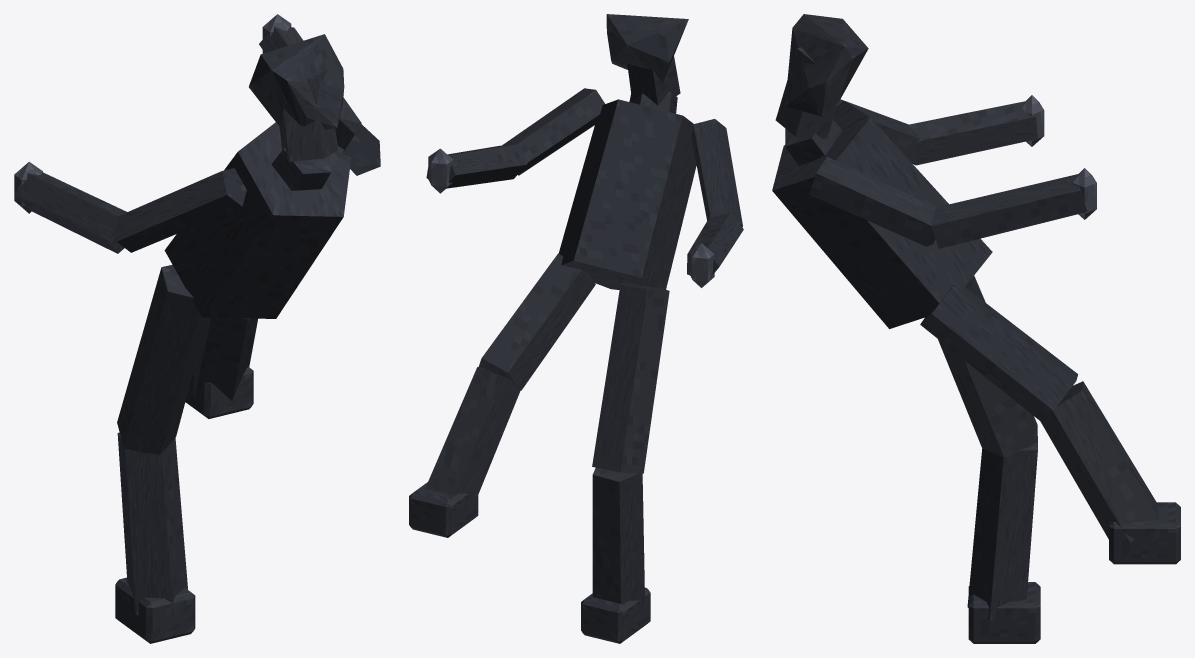
Rendered from f_glassedbody_1.glb.
3 renders of one model, left to right at view 1: azimuth 30°, elevation 25°; view 2: azimuth 150°, elevation 25°; view 3: azimuth 270°, elevation 25°, orthographic. The views are drawn at different scales.
Parts seen in each view (by area): view 1: block_angular-torso-1, block_faceted-glass-leg-1 (×2), block_faceted-glass-leg-2, block_angular-glass-arm-1 (×2), block_angular-black-glass-head, block_angular-glass-arm-2 (×2), block_solid-glass-foot (×2), block_vitrified-neck-2, block_vitrified-neck-1; view 2: block_angular-torso-1, block_faceted-glass-leg-2 (×2), block_faceted-glass-leg-1 (×2), block_angular-glass-arm-1 (×2), block_solid-glass-foot (×2), block_angular-glass-arm-2 (×2), block_angular-black-glass-head, block_glass-hand (×2), block_vitrified-neck-2, block_vitrified-neck-1; view 3: block_angular-torso-1, block_faceted-glass-leg-1 (×2), block_faceted-glass-leg-2 (×2), block_angular-glass-arm-2 (×2), block_solid-glass-foot (×2), block_angular-glass-arm-1 (×2), block_angular-black-glass-head, block_vitrified-neck-2, block_vitrified-neck-1, block_glass-hand.
Boxes of the visible parts, box(x1,y1,x2,y2) form: block_angular-torso-1: box(164, 122, 351, 318); block_faceted-glass-leg-1 (×2): box(117, 317, 257, 615); block_faceted-glass-leg-2: box(117, 264, 207, 454); block_angular-glass-arm-1 (×2): box(113, 118, 380, 252); block_angular-black-glass-head: box(249, 34, 344, 129); block_angular-glass-arm-2 (×2): box(15, 26, 361, 253); block_solid-glass-foot (×2): box(115, 366, 253, 643); block_vitrified-neck-2: box(279, 70, 338, 161); block_vitrified-neck-1: box(271, 148, 331, 190); block_angular-torso-1: box(558, 99, 696, 289); block_faceted-glass-leg-2 (×2): box(478, 253, 669, 473); block_faceted-glass-leg-1 (×2): box(425, 367, 645, 611); block_angular-glass-arm-1 (×2): box(502, 88, 742, 226); block_solid-glass-foot (×2): box(409, 482, 650, 643); block_angular-glass-arm-2 (×2): box(426, 144, 743, 275); block_angular-black-glass-head: box(606, 14, 688, 82); block_glass-hand (×2): box(428, 148, 714, 287); block_vitrified-neck-2: box(627, 56, 680, 105); block_vitrified-neck-1: box(629, 92, 677, 113); block_angular-torso-1: box(772, 100, 992, 328); block_faceted-glass-leg-1 (×2): box(967, 381, 1159, 620); block_faceted-glass-leg-2 (×2): box(920, 275, 1077, 457); block_angular-glass-arm-2 (×2): box(909, 101, 1087, 248); block_solid-glass-foot (×2): box(968, 502, 1180, 643); block_angular-glass-arm-1 (×2): box(809, 99, 935, 246); block_angular-black-glass-head: box(785, 14, 868, 116); block_vitrified-neck-2: box(775, 47, 836, 139); block_vitrified-neck-1: box(785, 120, 842, 166); block_glass-hand: box(1072, 168, 1096, 219).
Bounding box in the file's own units: 0.7864 × 1.54 × 0.9057.
1 material, 1 textured.
